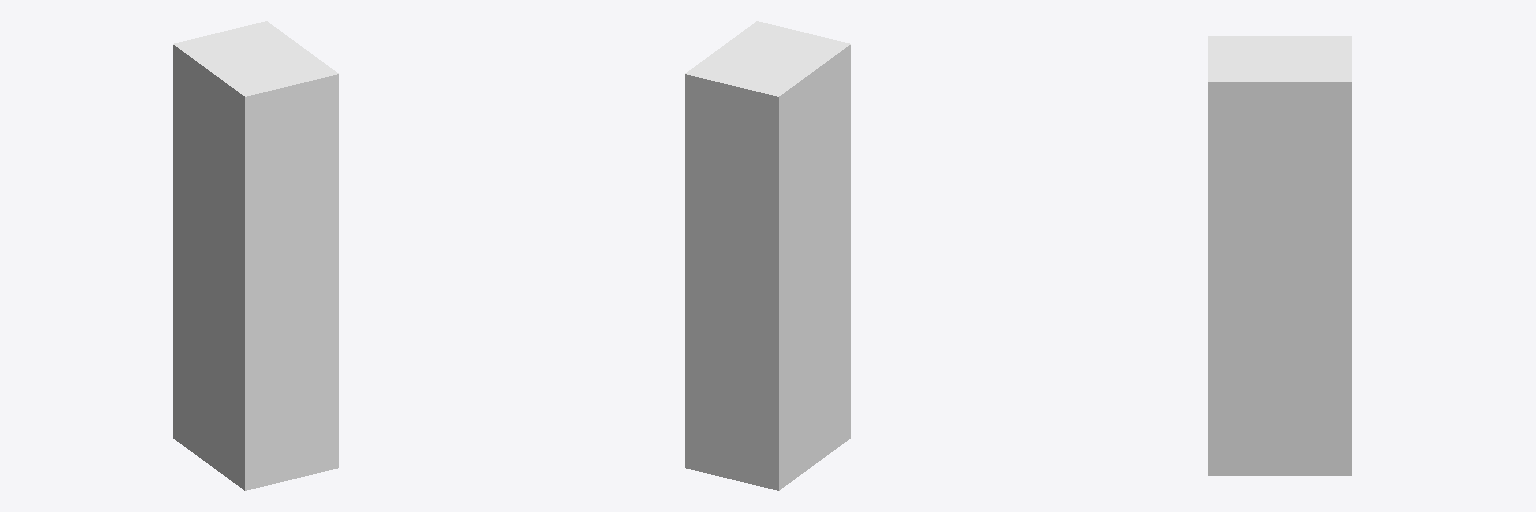
The model's file is brazobarbaro.obj.
3 views of the same model, side by side, from view 1: azimuth 30°, elevation 25°; view 2: azimuth 150°, elevation 25°; view 3: azimuth 270°, elevation 25° (orthographic).
Visible parts, largest first — view 1: object 1; view 2: object 1; view 3: object 1.
Boxes of the visible parts, x1,y1,x2,y2 form: object 1: [173, 21, 338, 490]; object 1: [685, 21, 850, 490]; object 1: [1208, 36, 1351, 475].
Bounding box in the file's own units: 0.3 × 1.2 × 0.4.